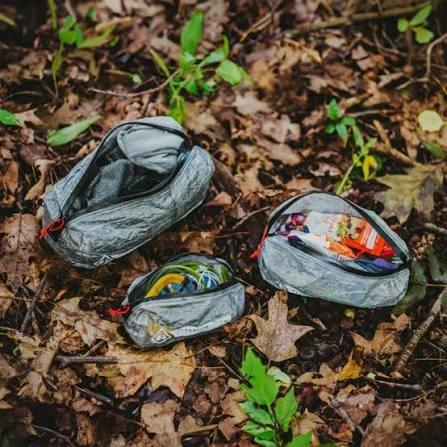non-dog: (38, 117, 216, 273), (246, 185, 415, 314), (110, 255, 249, 351)
